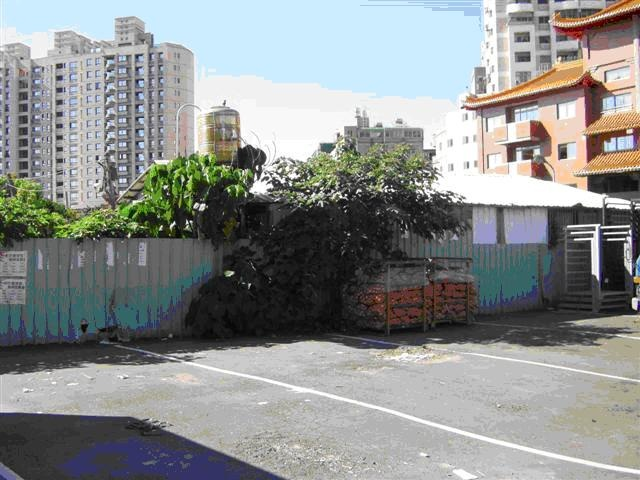water_tower: (194, 100, 248, 172)
